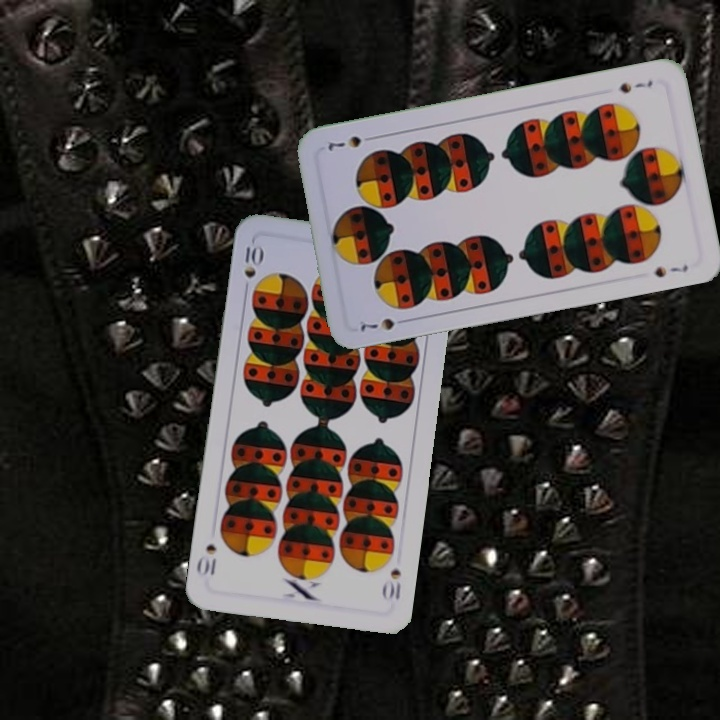S10: (240, 238, 264, 297), (378, 563, 404, 603)
S7: (356, 314, 412, 335), (615, 76, 655, 96)
